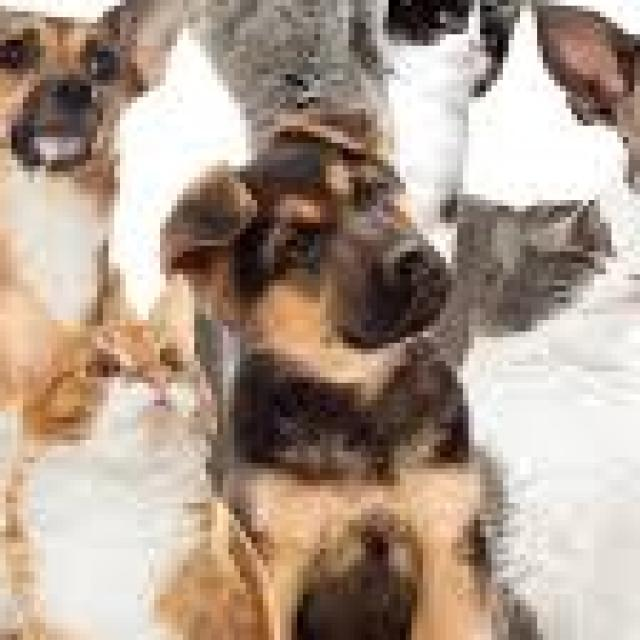dog: (165, 68, 565, 640), (0, 0, 189, 640), (525, 0, 640, 205)
